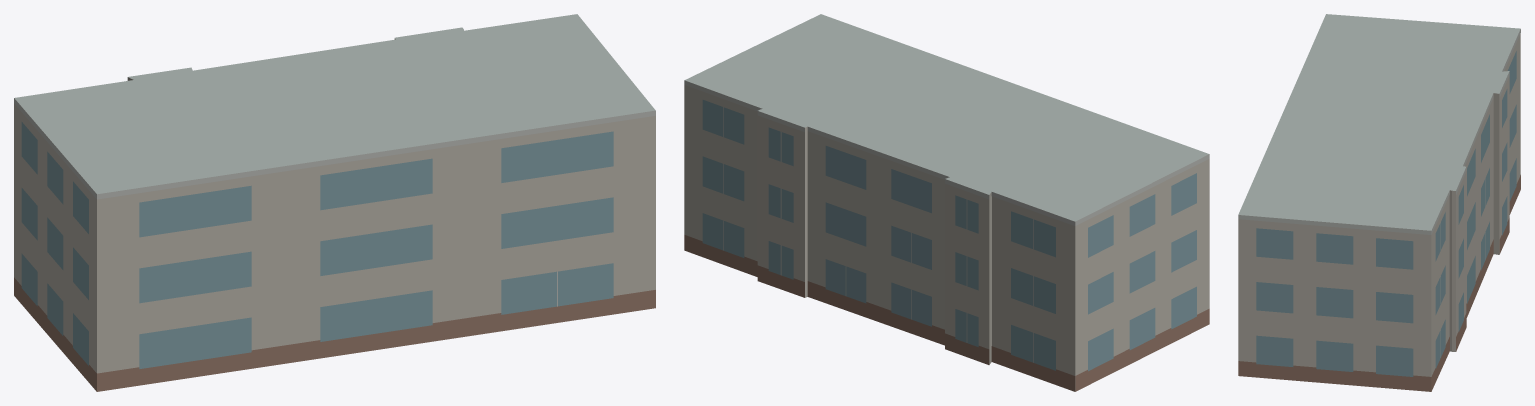
Rendered from survey-upis-33000322.glb.
3 renders of one model, left to right at view 1: azimuth 30°, elevation 25°; view 2: azimuth 150°, elevation 25°; view 3: azimuth 270°, elevation 25°, orthographic. The views are drawn at different scales.
Visible parts, largest first — view 1: survey-upis-33000322.tmp; view 2: survey-upis-33000322.tmp; view 3: survey-upis-33000322.tmp.
Boxes of the visible parts, x1,y1,x2,y2 form: survey-upis-33000322.tmp: [14, 14, 655, 391]; survey-upis-33000322.tmp: [684, 14, 1209, 391]; survey-upis-33000322.tmp: [1238, 14, 1520, 391].
Size of the model in its own units: 26.42 by 9.15 by 14.56.
